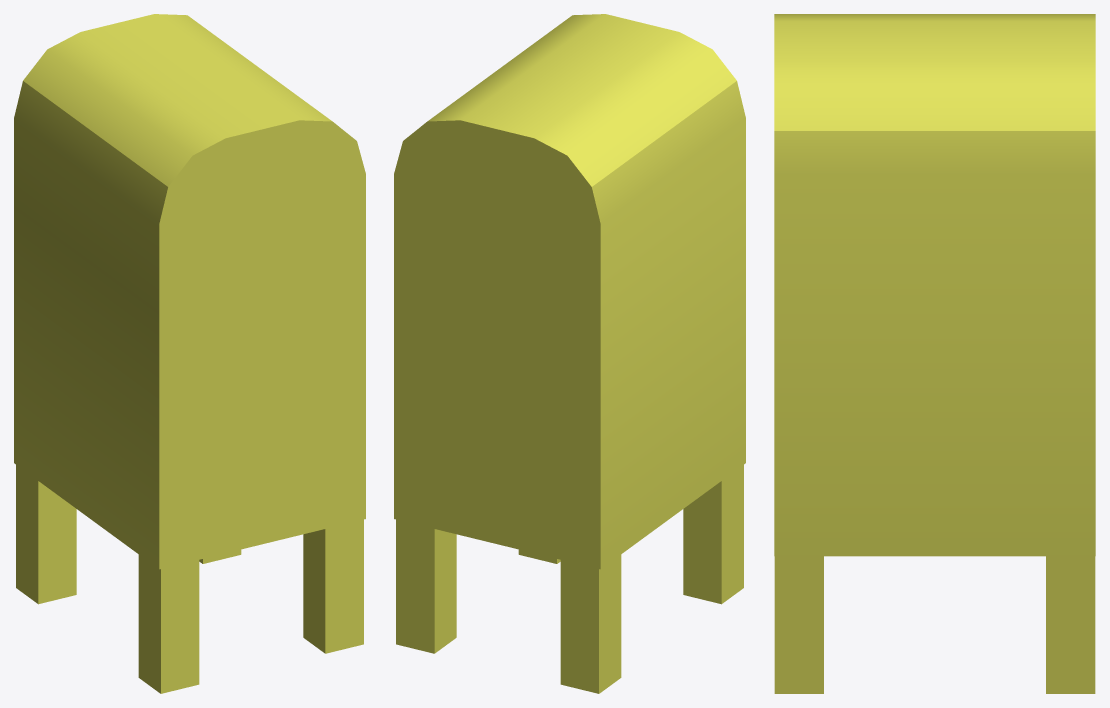
File: 우체통_low.fbx
3 renders of one model, left to right at view 1: azimuth 30°, elevation 25°; view 2: azimuth 150°, elevation 25°; view 3: azimuth 270°, elevation 25°, orthographic. The views are drawn at different scales.
Parts seen in each view (by area): view 1: l; view 2: l; view 3: l.
Boxes of the visible parts, box(x1,y1,x2,y2) form: l: box(14, 14, 365, 693); l: box(394, 14, 745, 693); l: box(774, 14, 1095, 693).
Size of the model in its own units: 164 by 410 by 200.
